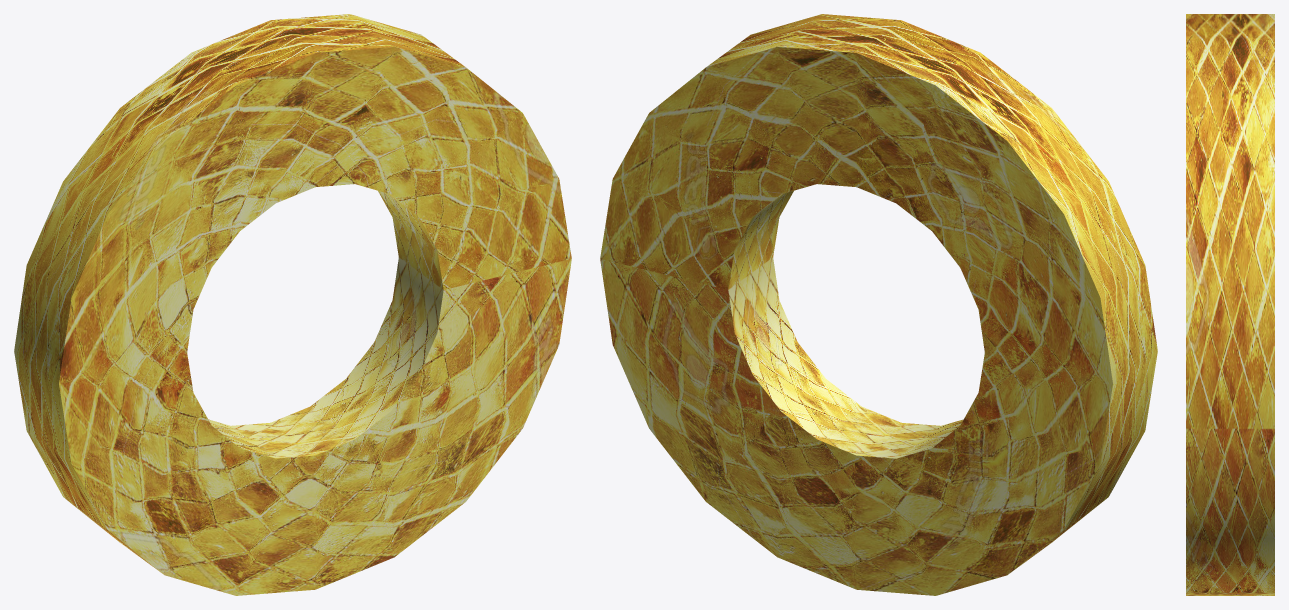
Rendered from ring.dae.
The picture shows the model from 3 angles, left to right: view 1: azimuth 30°, elevation 25°; view 2: azimuth 150°, elevation 25°; view 3: azimuth 270°, elevation 25°; orthographic projection.
Parts seen in each view (by area): view 1: ring; view 2: ring; view 3: ring.
Boxes of the visible parts, bbox=[...] form: ring: bbox=[14, 14, 571, 595]; ring: bbox=[600, 14, 1157, 595]; ring: bbox=[1186, 14, 1274, 595].
Bounding box in the file's own units: 2 × 2 × 0.3026.
Materials: 1 (1 with a texture image).
